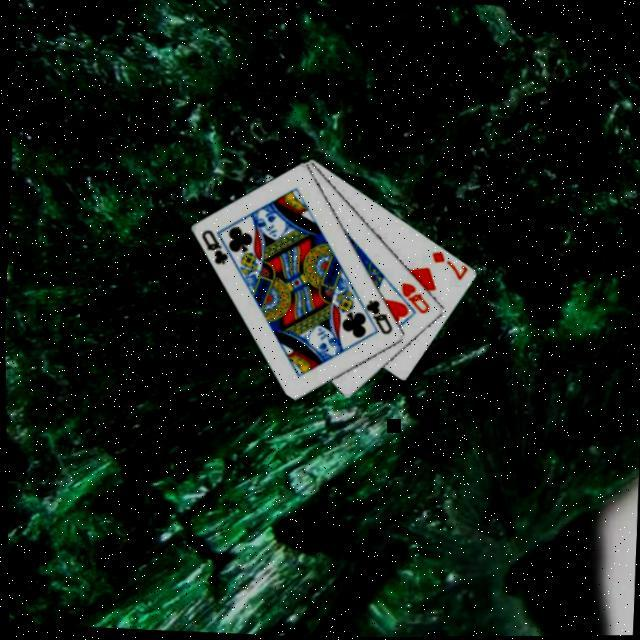7D: (424, 250, 468, 286)
QC: (358, 298, 394, 340), (196, 228, 230, 270)
QH: (394, 282, 430, 318)
